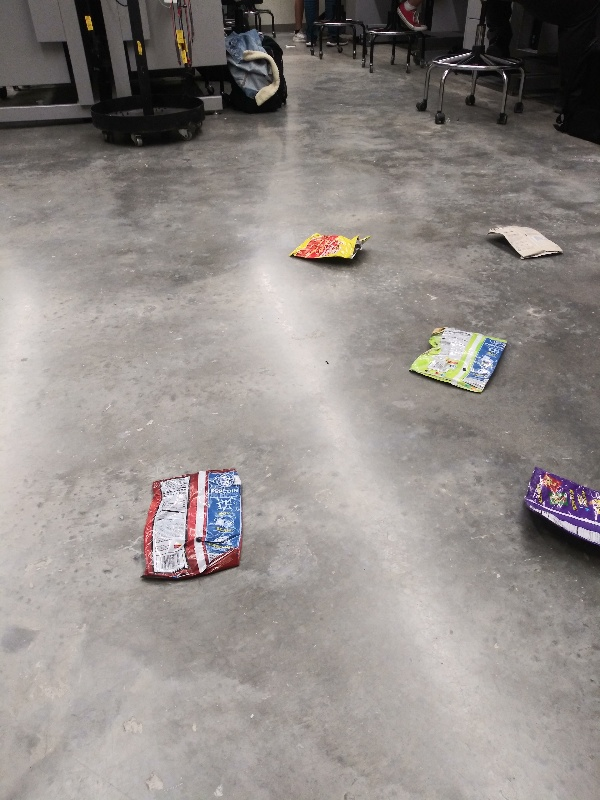bag: (134, 465, 251, 587), (402, 321, 514, 397), (519, 460, 600, 556), (483, 220, 570, 263), (286, 229, 377, 268)
